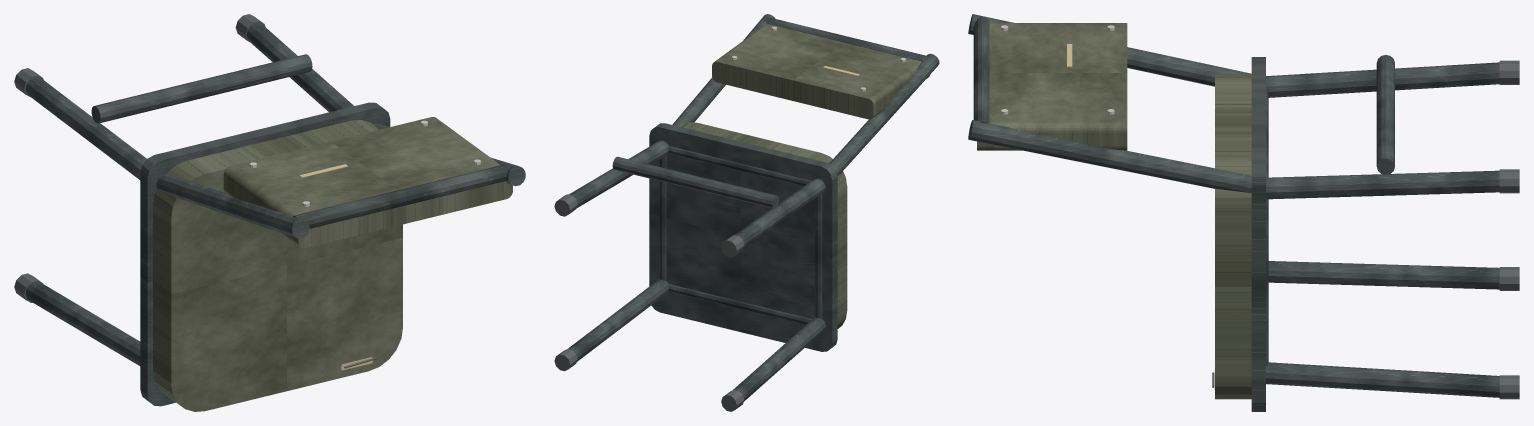
Rendered from PZ_Dining_Industrial_Chair.glb.
3 renders of one model, left to right at view 1: azimuth 30°, elevation 25°; view 2: azimuth 150°, elevation 25°; view 3: azimuth 270°, elevation 25°, orthographic. The views are drawn at different scales.
Parts seen in each view (by area): view 1: GEO_MetalChair__SEAT_CushionFadedVinyl, GEO_MetalChair__BACK_PaddedVinylPanel, GEO_MetalChair__SEAT_UnderseatSteelPan, GEO_MetalChair__FRAME_RearStretcher, GEO_MetalChair__BACK_TopSteelBrace, GEO_MetalChair__BACK_ContinuousSteelPost_L, GEO_MetalChair__FRAME_TubularLeg_L_B, GEO_MetalChair__FRAME_TubularLeg_L_F, GEO_MetalChair__FRAME_TubularLeg_R_B, GEO_MetalChair__BACK_ContinuousSteelPost_R; view 2: GEO_MetalChair__SEAT_UnderseatSteelPan, GEO_MetalChair__BACK_PaddedVinylPanel, GEO_MetalChair__SEAT_CushionFadedVinyl, GEO_MetalChair__FRAME_RearStretcher, GEO_MetalChair__BACK_ContinuousSteelPost_L, GEO_MetalChair__FRAME_TubularLeg_R_F, GEO_MetalChair__FRAME_TubularLeg_L_F, GEO_MetalChair__FRAME_TubularLeg_L_B, GEO_MetalChair__FRAME_TubularLeg_R_B, GEO_MetalChair__BACK_TopSteelBrace, GEO_MetalChair__FRAME_SeatCrossbar_F, GEO_MetalChair__FRAME_SeatCrossbar_B (+7 smaller); view 3: GEO_MetalChair__BACK_PaddedVinylPanel, GEO_MetalChair__SEAT_CushionFadedVinyl, GEO_MetalChair__BACK_ContinuousSteelPost_R, GEO_MetalChair__SEAT_UnderseatSteelPan, GEO_MetalChair__FRAME_TubularLeg_R_F, GEO_MetalChair__FRAME_TubularLeg_R_B, GEO_MetalChair__FRAME_TubularLeg_L_F, GEO_MetalChair__FRAME_TubularLeg_L_B, GEO_MetalChair__BACK_ContinuousSteelPost_L, GEO_MetalChair__FRAME_RearStretcher, GEO_MetalChair__BACK_TopSteelBrace, GEO_MetalChair__FRAME_RubberFoot_R_F (+4 smaller).
Boxes of the visible parts, bbox=[...] form: GEO_MetalChair__SEAT_CushionFadedVinyl: bbox=[153, 120, 402, 411]; GEO_MetalChair__BACK_PaddedVinylPanel: bbox=[223, 117, 512, 248]; GEO_MetalChair__SEAT_UnderseatSteelPan: bbox=[140, 102, 390, 406]; GEO_MetalChair__FRAME_RearStretcher: bbox=[91, 54, 312, 123]; GEO_MetalChair__BACK_TopSteelBrace: bbox=[293, 163, 511, 228]; GEO_MetalChair__BACK_ContinuousSteelPost_L: bbox=[156, 174, 309, 238]; GEO_MetalChair__FRAME_TubularLeg_L_B: bbox=[25, 77, 146, 179]; GEO_MetalChair__FRAME_TubularLeg_L_F: bbox=[25, 281, 140, 365]; GEO_MetalChair__FRAME_TubularLeg_R_B: bbox=[246, 23, 353, 112]; GEO_MetalChair__BACK_ContinuousSteelPost_R: bbox=[372, 123, 525, 186]; GEO_MetalChair__SEAT_UnderseatSteelPan: bbox=[649, 123, 837, 351]; GEO_MetalChair__BACK_PaddedVinylPanel: bbox=[712, 24, 929, 119]; GEO_MetalChair__SEAT_CushionFadedVinyl: bbox=[681, 122, 847, 328]; GEO_MetalChair__FRAME_RearStretcher: bbox=[612, 156, 778, 208]; GEO_MetalChair__BACK_ContinuousSteelPost_L: bbox=[829, 53, 939, 175]; GEO_MetalChair__FRAME_TubularLeg_R_F: bbox=[568, 279, 668, 361]; GEO_MetalChair__FRAME_TubularLeg_L_F: bbox=[733, 317, 825, 401]; GEO_MetalChair__FRAME_TubularLeg_L_B: bbox=[735, 178, 825, 248]; GEO_MetalChair__FRAME_TubularLeg_R_B: bbox=[569, 140, 668, 208]; GEO_MetalChair__BACK_TopSteelBrace: bbox=[764, 17, 928, 61]; GEO_MetalChair__FRAME_SeatCrossbar_F: bbox=[668, 284, 812, 324]; GEO_MetalChair__FRAME_SeatCrossbar_B: bbox=[668, 146, 811, 186]; GEO_MetalChair__BACK_PaddedVinylPanel: bbox=[977, 23, 1127, 150]; GEO_MetalChair__SEAT_CushionFadedVinyl: bbox=[1215, 74, 1251, 399]; GEO_MetalChair__BACK_ContinuousSteelPost_R: bbox=[968, 120, 1251, 193]; GEO_MetalChair__SEAT_UnderseatSteelPan: bbox=[1251, 57, 1265, 411]; GEO_MetalChair__FRAME_TubularLeg_R_F: bbox=[1266, 362, 1499, 397]; GEO_MetalChair__FRAME_TubularLeg_R_B: bbox=[1266, 170, 1499, 199]; GEO_MetalChair__FRAME_TubularLeg_L_F: bbox=[1268, 261, 1499, 289]; GEO_MetalChair__FRAME_TubularLeg_L_B: bbox=[1266, 62, 1499, 97]; GEO_MetalChair__BACK_ContinuousSteelPost_L: bbox=[968, 14, 1251, 86]; GEO_MetalChair__FRAME_RearStretcher: bbox=[1376, 55, 1394, 174]; GEO_MetalChair__BACK_TopSteelBrace: bbox=[973, 16, 989, 123]; GEO_MetalChair__FRAME_RubberFoot_R_F: bbox=[1499, 375, 1519, 399].
Bounding box in the file's own units: 0.463 × 0.5262 × 0.9067.
Materials: 5 (2 with a texture image).
